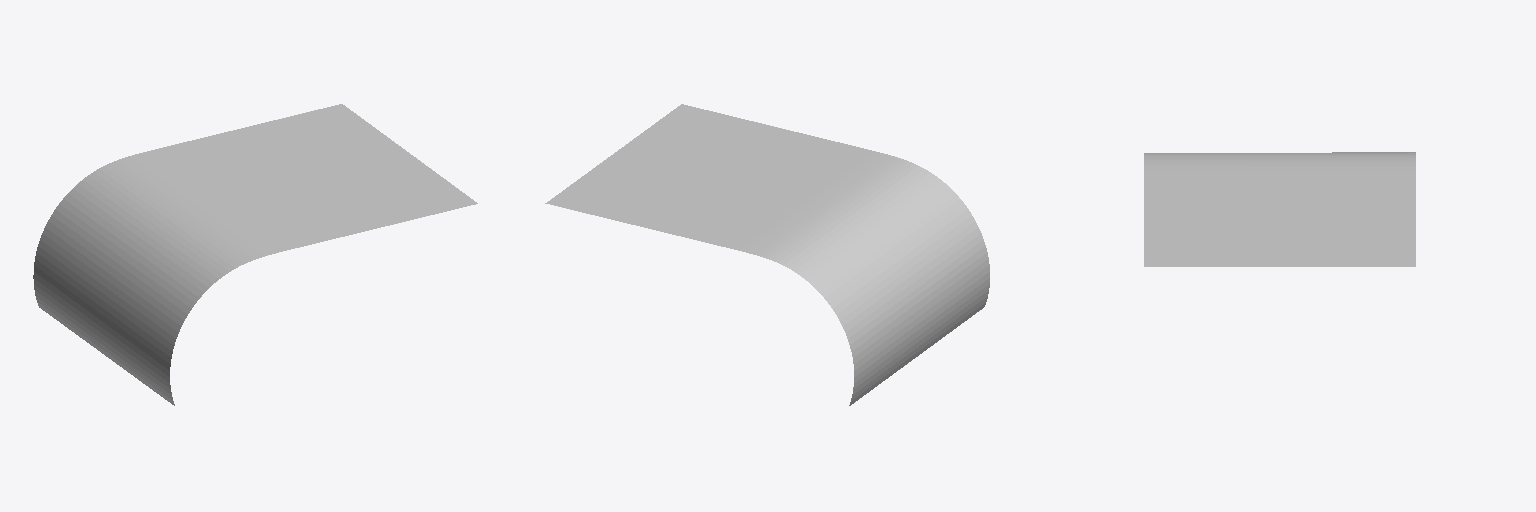
Rendered from CurvePaper_000052.obj.
The picture shows the model from 3 angles: view 1: azimuth 30°, elevation 25°; view 2: azimuth 150°, elevation 25°; view 3: azimuth 270°, elevation 25°; orthographic projection.
Parts seen in each view (by area): view 1: Plane; view 2: Plane; view 3: Plane.
Part boxes in pixels (bbox=[...]): Plane: bbox=[33, 104, 477, 405]; Plane: bbox=[545, 104, 989, 405]; Plane: bbox=[1144, 152, 1415, 266].
Bounding box in the file's own units: 2.96 × 1.18 × 2.26.